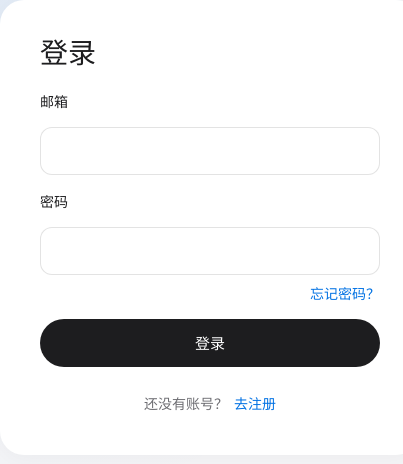
Test: AuthForm › displays error message on failure
Type "hello@example.com" into the field labelled "邮箱".
click(210, 151); type("hello@example.com")  # box [40,127,380,175]
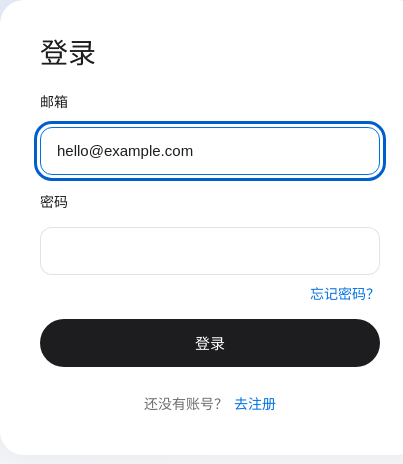
Type "wrong" into the password field labelled "密码".
click(210, 251); type("wrong")  # box [40,227,380,275]
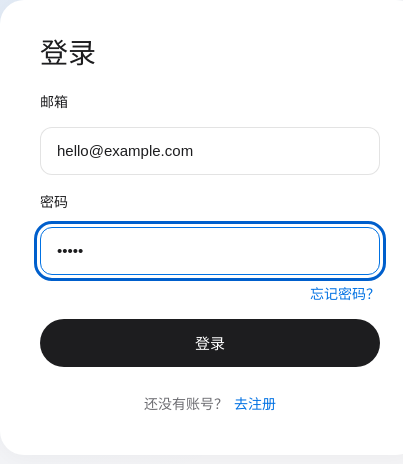
Click the button "登录".
click(210, 343)  # box [40,319,380,367]
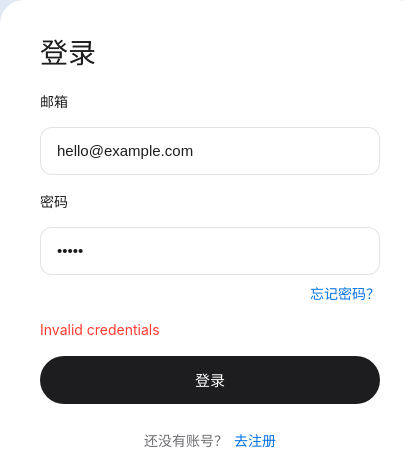
Now the message reads "Invalid credentials", box [40,321,160,338]
